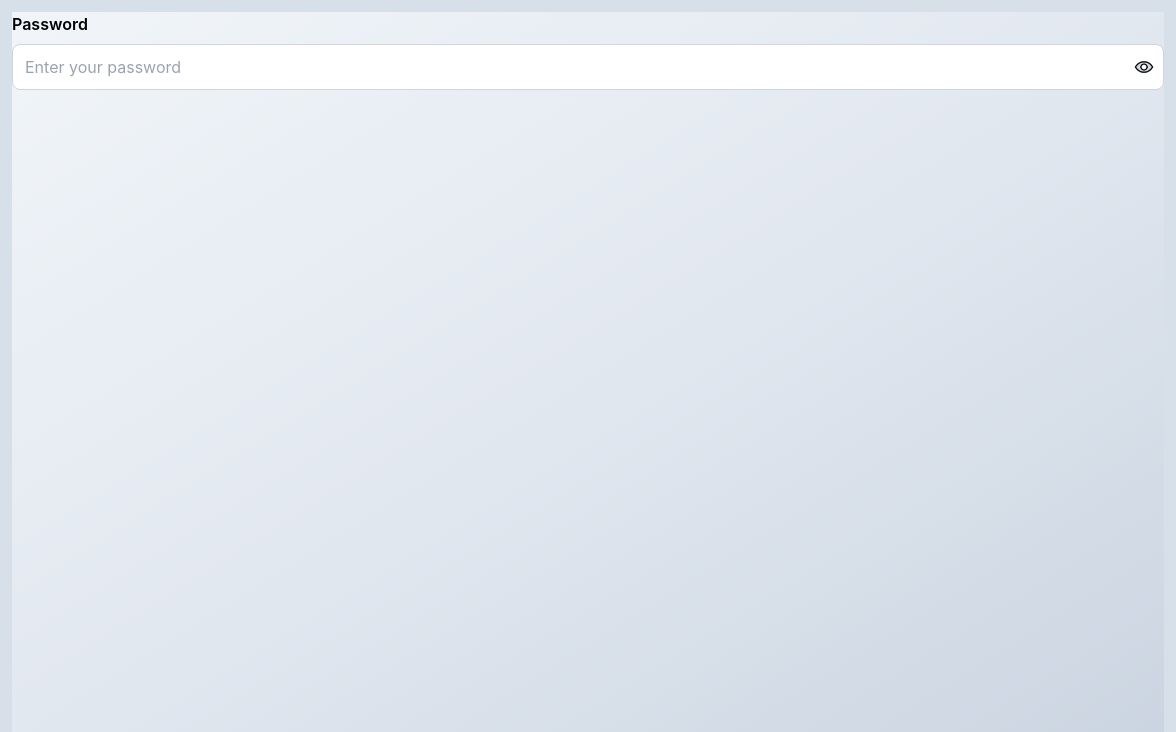
PasswordInput Component › shows error when number is missing
Type "Abcdefgh@" into the password field with placeholder "Enter your password" at point(588, 67), box [12,44,1164,90]
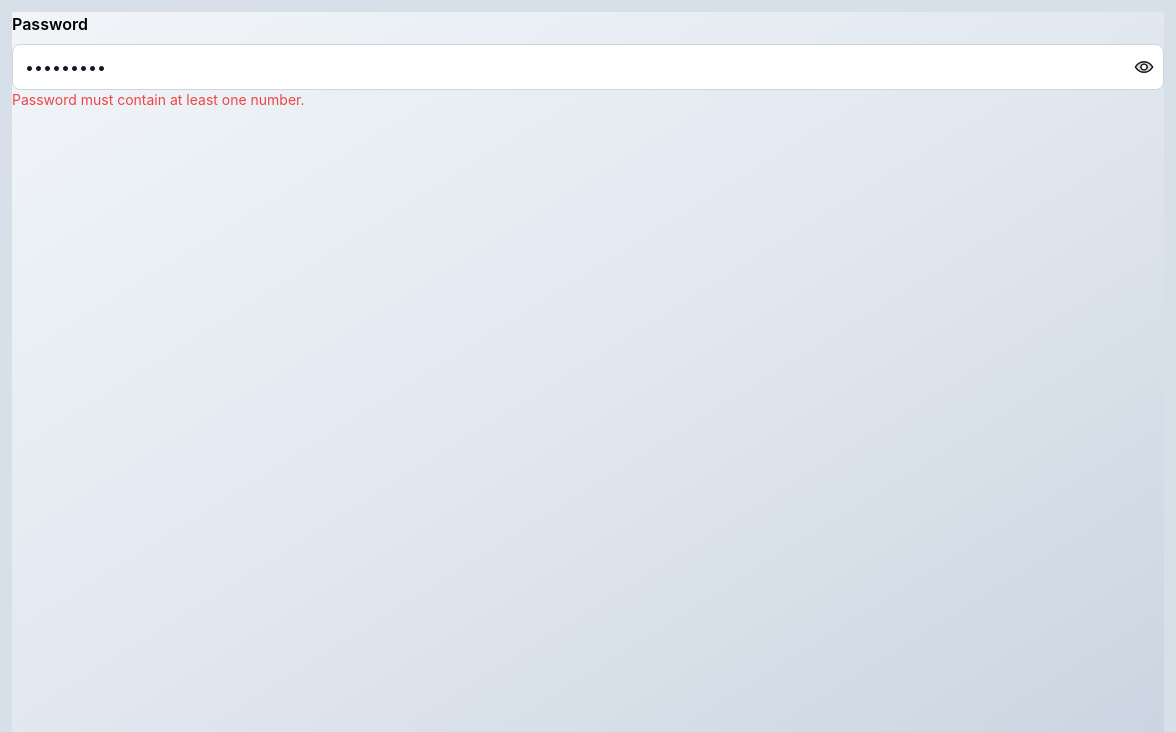
Expected: the text "Password must contain at least one number." is shown, [12,91,304,108]
